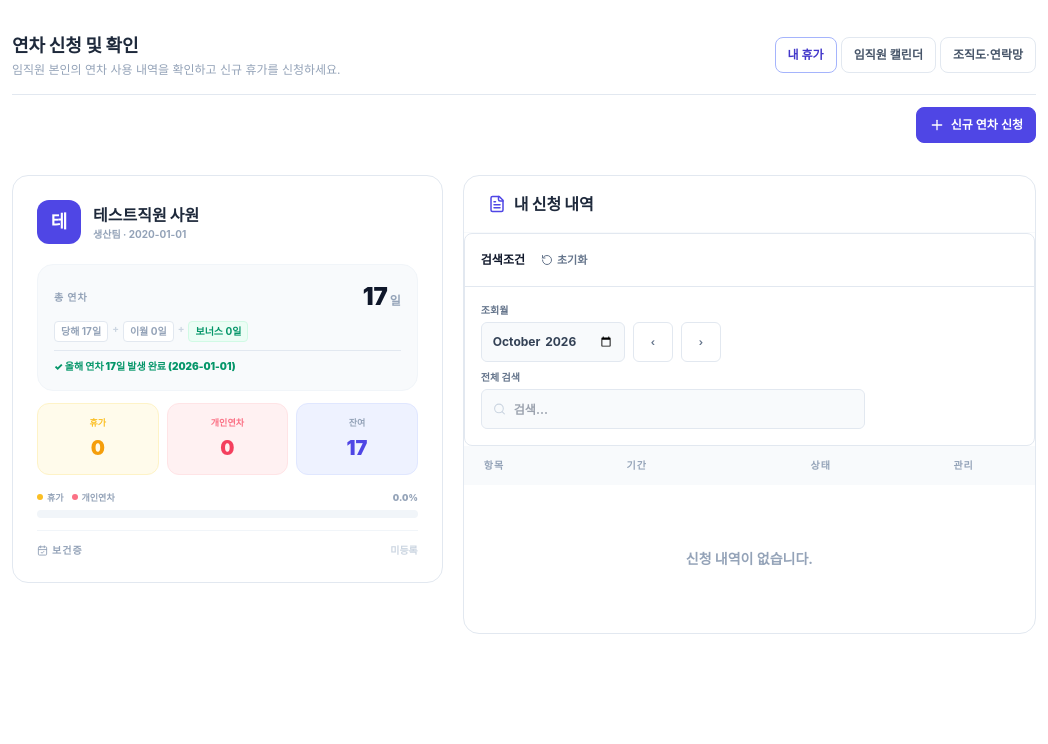
Test: 관리자는 연락망 편집을 열 수 있고 신청 행동은 조직도에서 생기지 않는다
The image size is (1048, 744).
What coordinates should you click on to do the following:
click the button "조직도·연락망"
I would click on:
 (988, 55)
Its box is [940,37,1036,73].
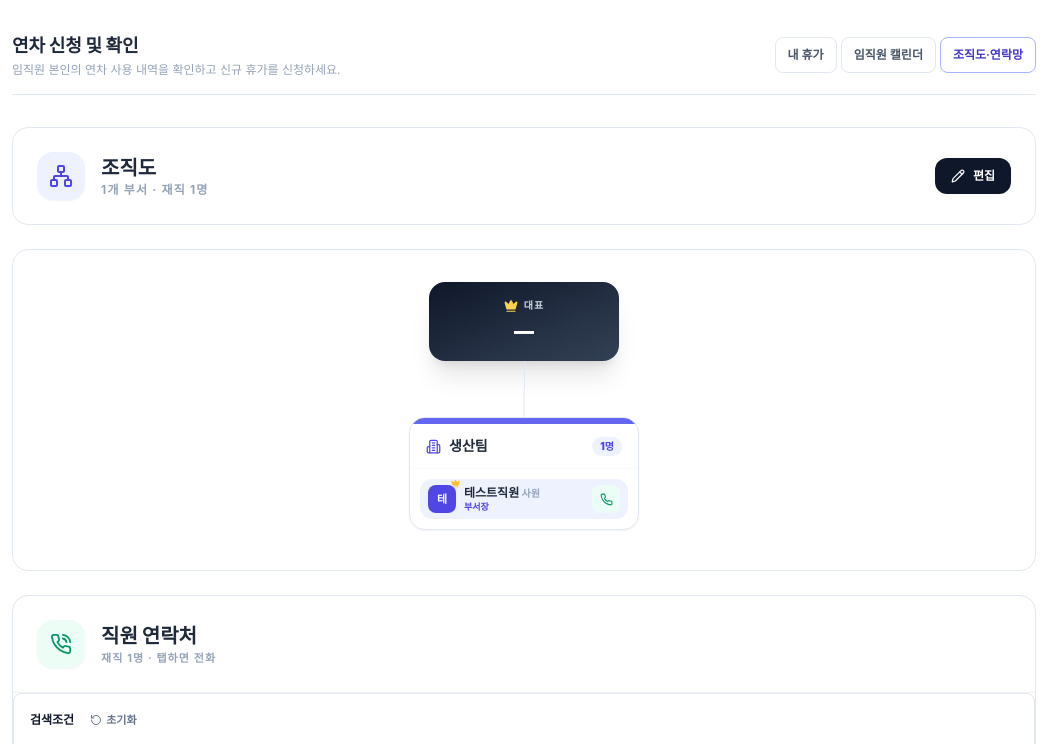
What coordinates should you click on to do the following:
click the button "편집"
I would click on:
 (973, 176)
Its box is [935,158,1011,194].
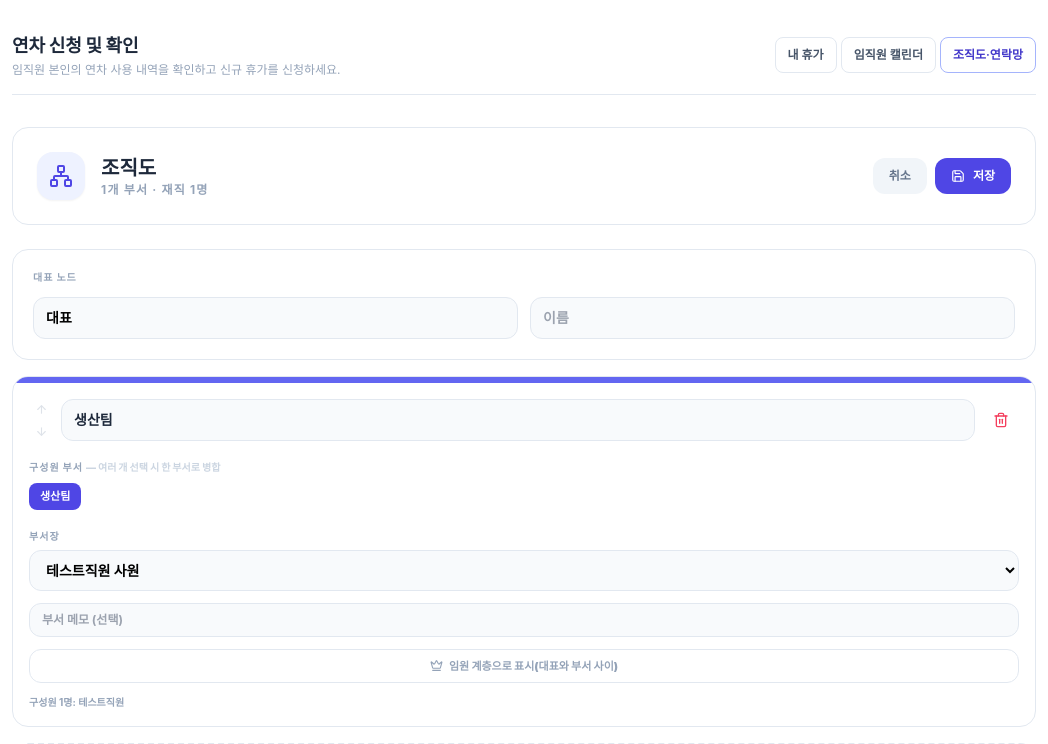
expect the button "신규 연차 신청" is not shown: met
expect the field with placeholder "직함 (예: 대표이사)" below "대표 노드" is shown: met, box [33,297,518,339]
